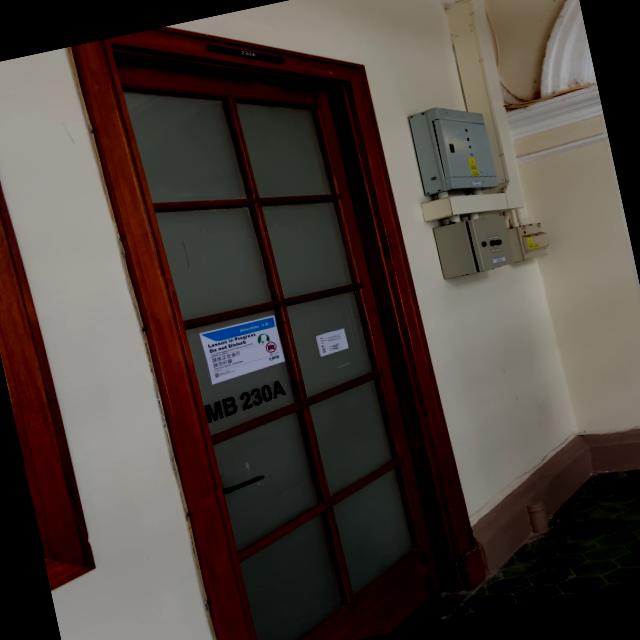room230A: (204, 26, 288, 80)
